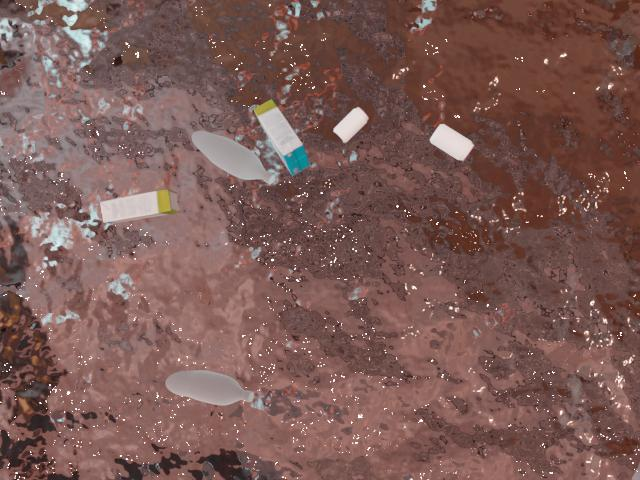Metal: (414, 118, 486, 164), (331, 98, 373, 149)
Plastic: (174, 118, 288, 192), (144, 354, 272, 419)
Trash: (242, 85, 316, 185), (86, 184, 190, 234)
